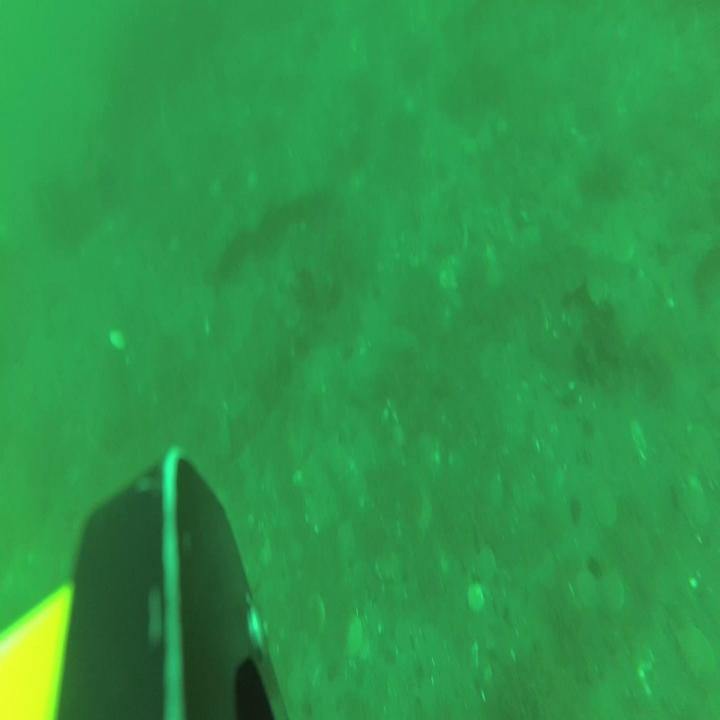scallop: (672, 615, 718, 687), (677, 475, 711, 533), (622, 521, 652, 576), (570, 562, 600, 614), (471, 541, 501, 585), (591, 484, 619, 529), (601, 567, 626, 614), (512, 470, 538, 515), (284, 664, 312, 705), (343, 611, 365, 660), (306, 588, 326, 636), (336, 519, 358, 561), (373, 551, 400, 583), (466, 581, 485, 615), (108, 324, 127, 352)
